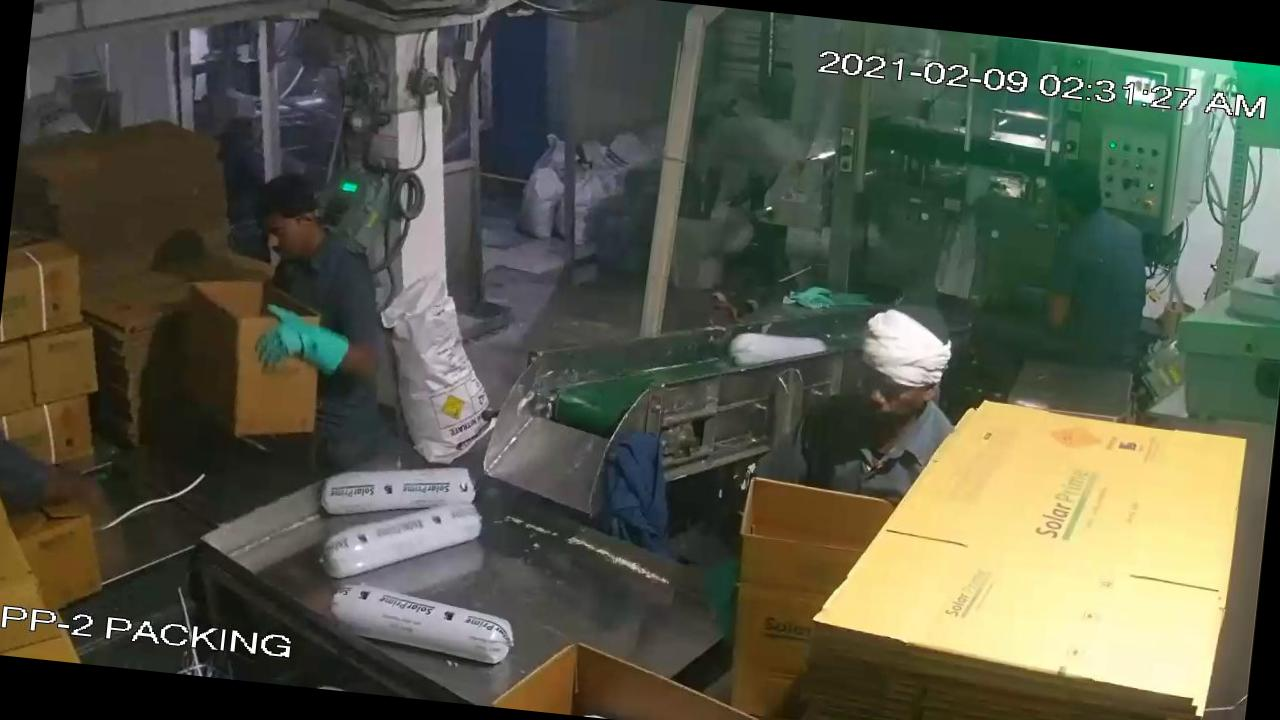Gloves: (245, 282, 358, 392)
No-gloves: (6, 420, 142, 554)
